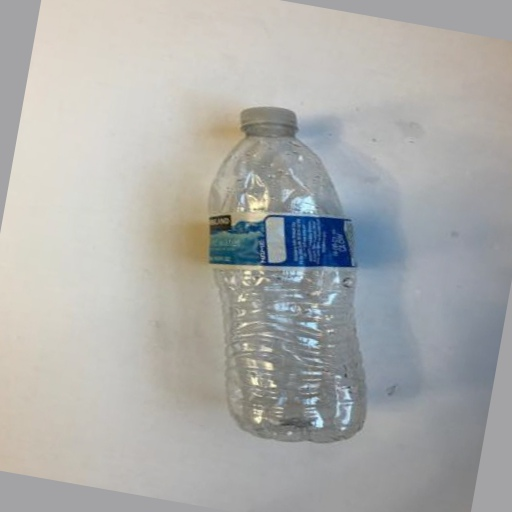Plastic_0: (208, 104, 369, 448)
